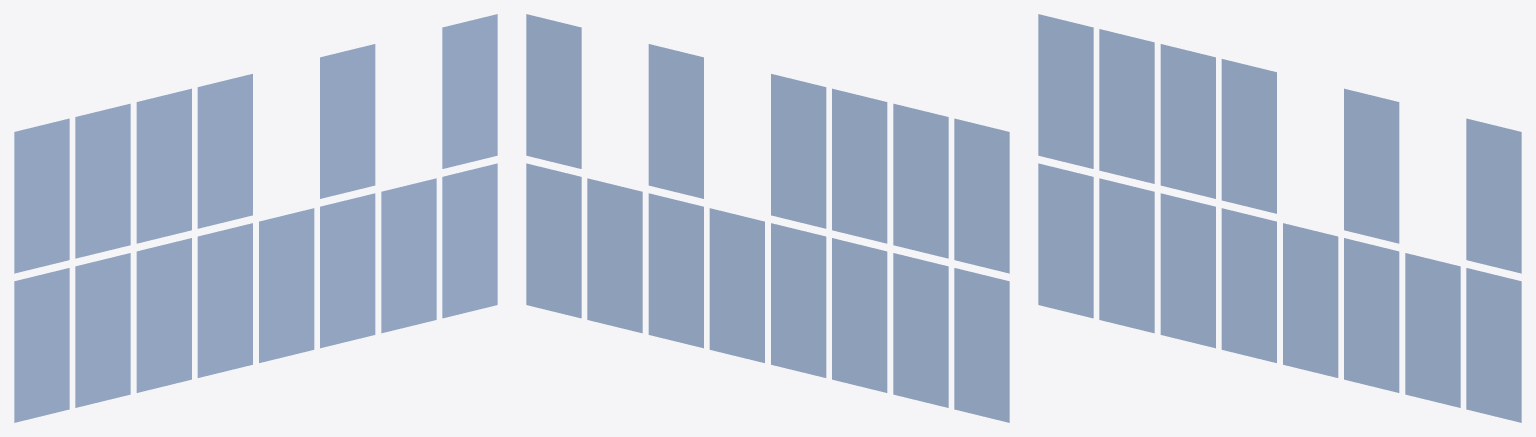
Rendered from SM_F_WindowGlass_Side_A.fbx.
3 renders of one model, left to right at view 1: azimuth 30°, elevation 25°; view 2: azimuth 150°, elevation 25°; view 3: azimuth 330°, elevation 25°, orthographic.
Visible parts, largest first — view 1: SM_F_WindowGlass_Side_A__Body; view 2: SM_F_WindowGlass_Side_A__Body; view 3: SM_F_WindowGlass_Side_A__Body.
Part boxes in pixels (x1=…): SM_F_WindowGlass_Side_A__Body: x1=14, y1=14, x2=497, y2=422; SM_F_WindowGlass_Side_A__Body: x1=526, y1=14, x2=1009, y2=422; SM_F_WindowGlass_Side_A__Body: x1=1038, y1=14, x2=1521, y2=422.
Size of the model in its own units: 5.93 by 3.41 by 0.
